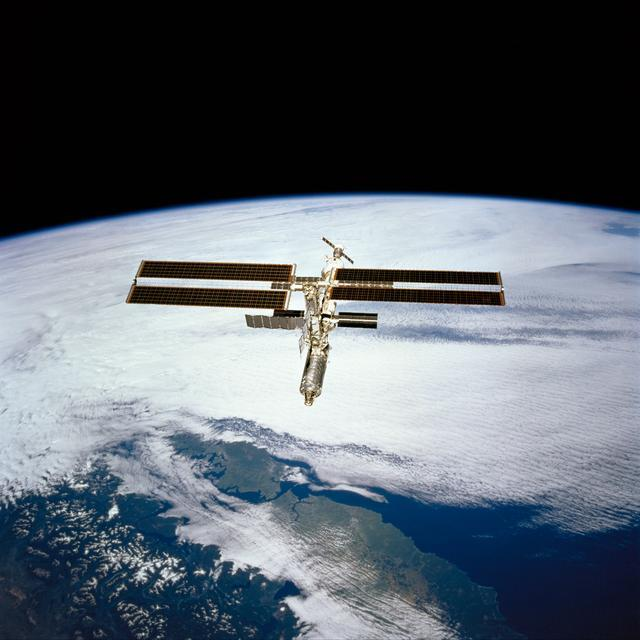satellite: (126, 238, 505, 404)
